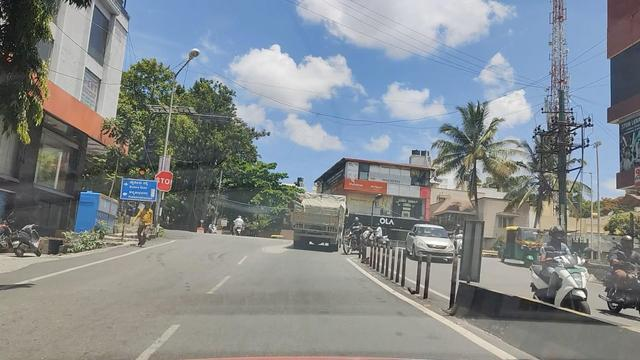HMV: (296, 193, 344, 252)
